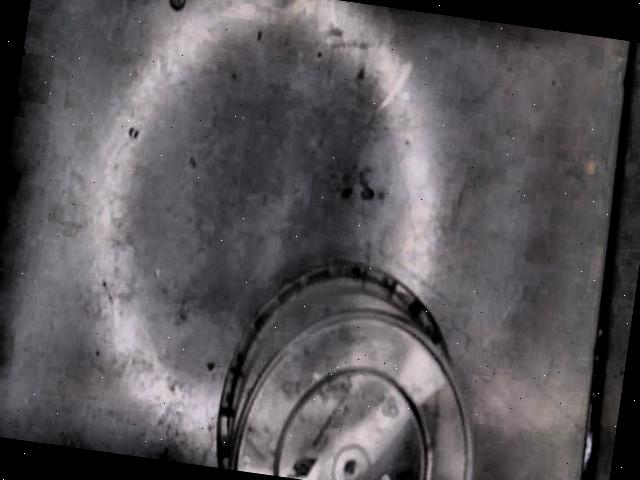Plastic: (214, 262, 473, 480)
